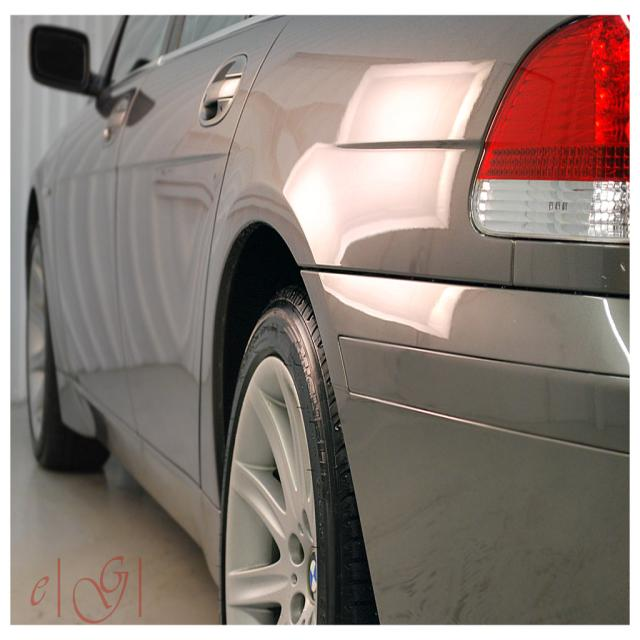car: (3, 13, 623, 638)
